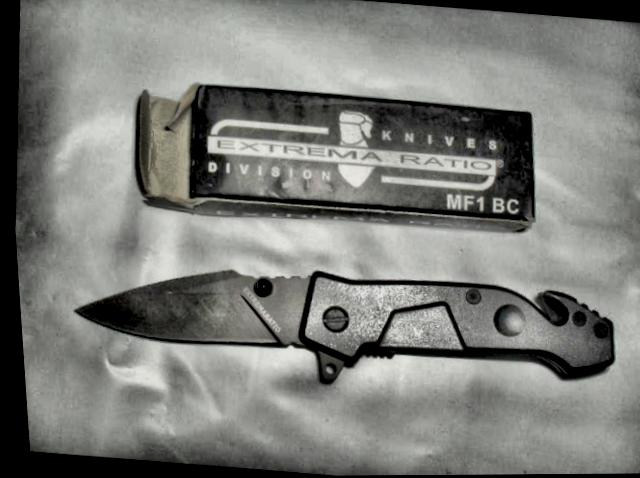knife: (52, 240, 421, 396)
